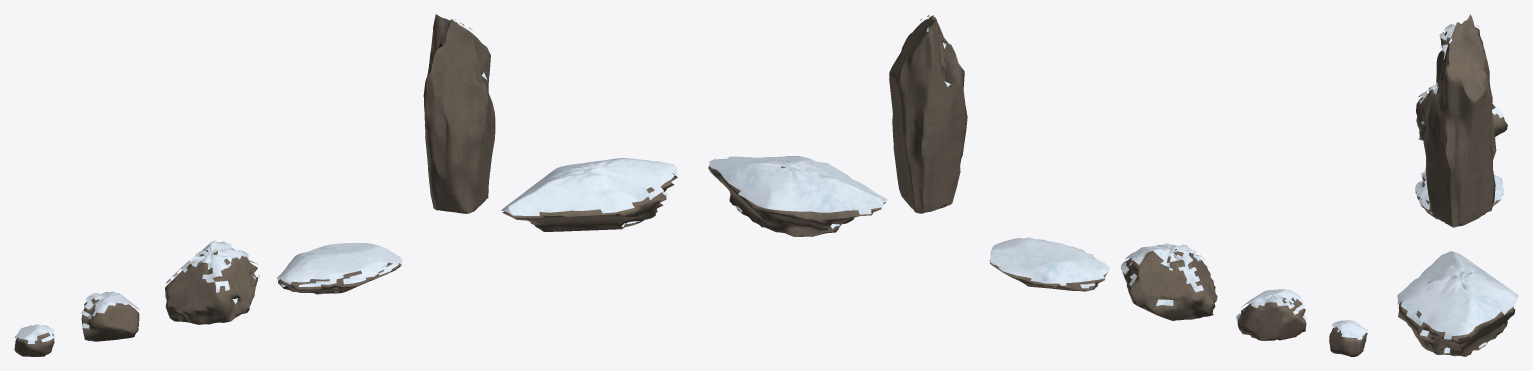
Rendered from RocceSet.fbx.
The picture shows the model from 3 angles, left to right: view 1: azimuth 30°, elevation 25°; view 2: azimuth 150°, elevation 25°; view 3: azimuth 270°, elevation 25°; orthographic projection.
Visible parts, largest first — view 1: Roccia5, Roccia6_Neve, Roccia3, Roccia4_Neve, Roccia6, Roccia2, Roccia3_Neve, Roccia4, Roccia2_Neve, Roccia1; view 2: Roccia5, Roccia6_Neve, Roccia3, Roccia4_Neve, Roccia6, Roccia2, Roccia3_Neve, Roccia2_Neve, Roccia1, Roccia4; view 3: Roccia5, Roccia6_Neve, Roccia6, Roccia3, Roccia4_Neve, Roccia3_Neve, Roccia2, Roccia1_Neve, Roccia4.
Boxes of the visible parts, x1=… form: Roccia5: x1=423, y1=14, x2=495, y2=213; Roccia6_Neve: x1=501, y1=158, x2=678, y2=226; Roccia3: x1=165, y1=248, x2=258, y2=324; Roccia4_Neve: x1=277, y1=243, x2=402, y2=286; Roccia6: x1=502, y1=173, x2=677, y2=231; Roccia2: x1=81, y1=298, x2=139, y2=341; Roccia3_Neve: x1=166, y1=240, x2=259, y2=303; Roccia4: x1=278, y1=262, x2=401, y2=294; Roccia2_Neve: x1=81, y1=291, x2=139, y2=328; Roccia1: x1=14, y1=332, x2=54, y2=356; Roccia5: x1=889, y1=15, x2=967, y2=213; Roccia6_Neve: x1=709, y1=156, x2=887, y2=228; Roccia3: x1=1122, y1=249, x2=1217, y2=320; Roccia4_Neve: x1=989, y1=237, x2=1109, y2=288; Roccia6: x1=708, y1=166, x2=885, y2=236; Roccia2: x1=1237, y1=297, x2=1306, y2=340; Roccia3_Neve: x1=1120, y1=243, x2=1205, y2=305; Roccia2_Neve: x1=1236, y1=289, x2=1306, y2=320; Roccia1: x1=1329, y1=326, x2=1367, y2=356; Roccia4: x1=990, y1=262, x2=1107, y2=291; Roccia5: x1=1423, y1=14, x2=1496, y2=227; Roccia6_Neve: x1=1397, y1=251, x2=1518, y2=353; Roccia6: x1=1398, y1=301, x2=1515, y2=356; Roccia3: x1=1416, y1=89, x2=1507, y2=140; Roccia4_Neve: x1=1415, y1=171, x2=1504, y2=213; Roccia3_Neve: x1=1418, y1=82, x2=1504, y2=124; Roccia2: x1=1436, y1=50, x2=1444, y2=83; Roccia1_Neve: x1=1439, y1=24, x2=1455, y2=40; Roccia4: x1=1415, y1=176, x2=1503, y2=223.
Bounding box in the file's own units: 3502 × 1208 × 552.
